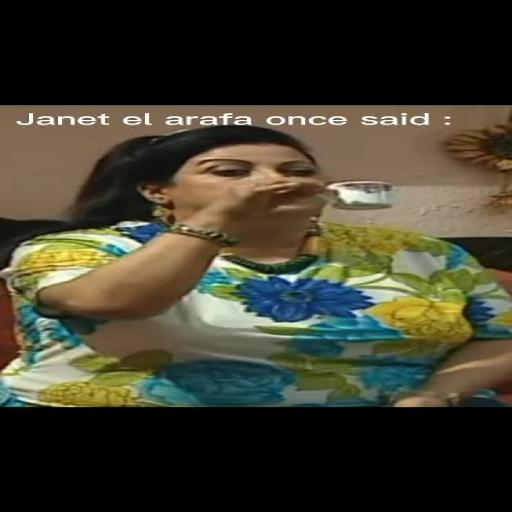jannet: (91, 125, 320, 223), (261, 188, 320, 218)
